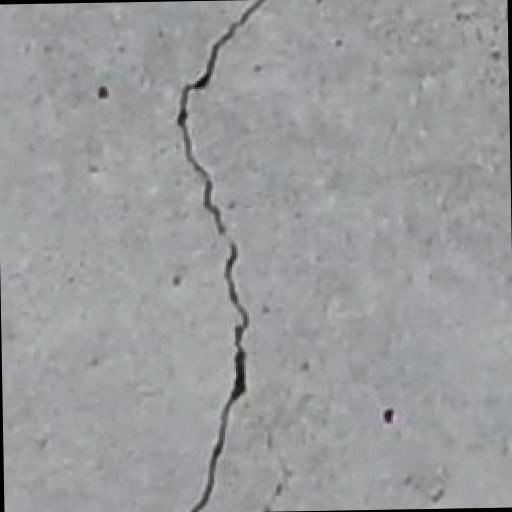spalling: (153, 2, 275, 505)
